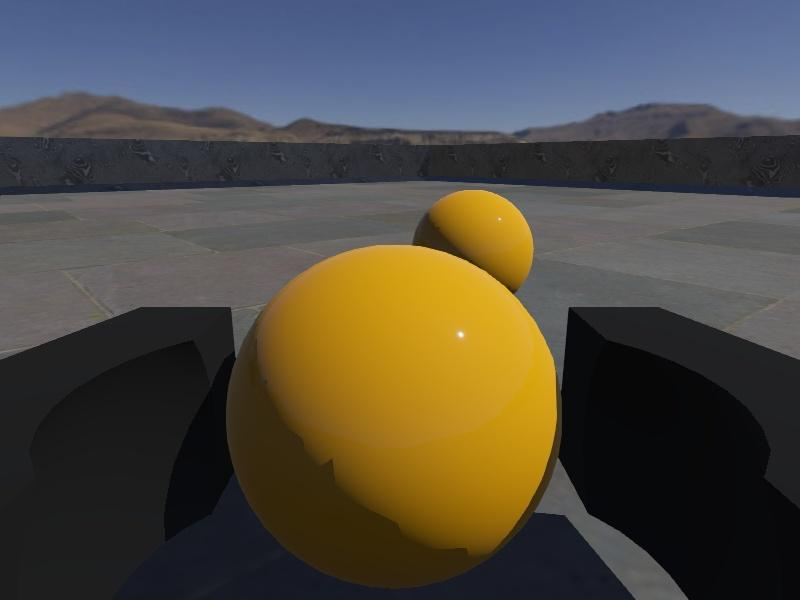orange ball: (225, 244, 562, 591)
